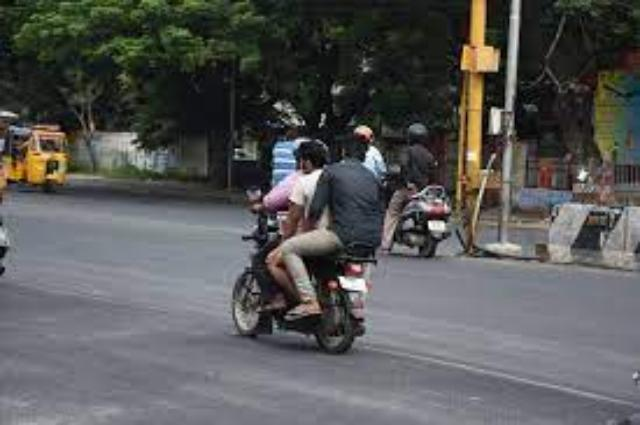licensePlate: (339, 271, 375, 294)
motorcycle: (233, 126, 391, 359)
withoutHelmet: (330, 134, 375, 167), (288, 142, 328, 171)
